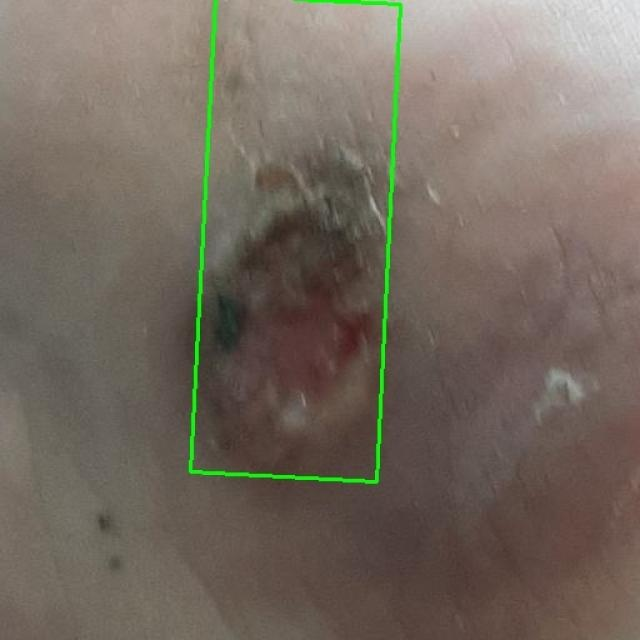Eczema: (191, 0, 401, 481)
